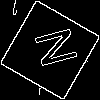N: (25, 25, 78, 72)
